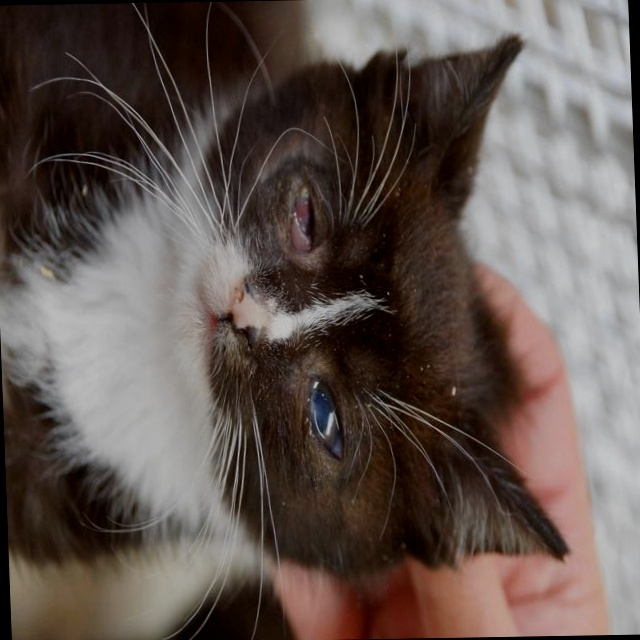eye_infection: (277, 177, 328, 256)
